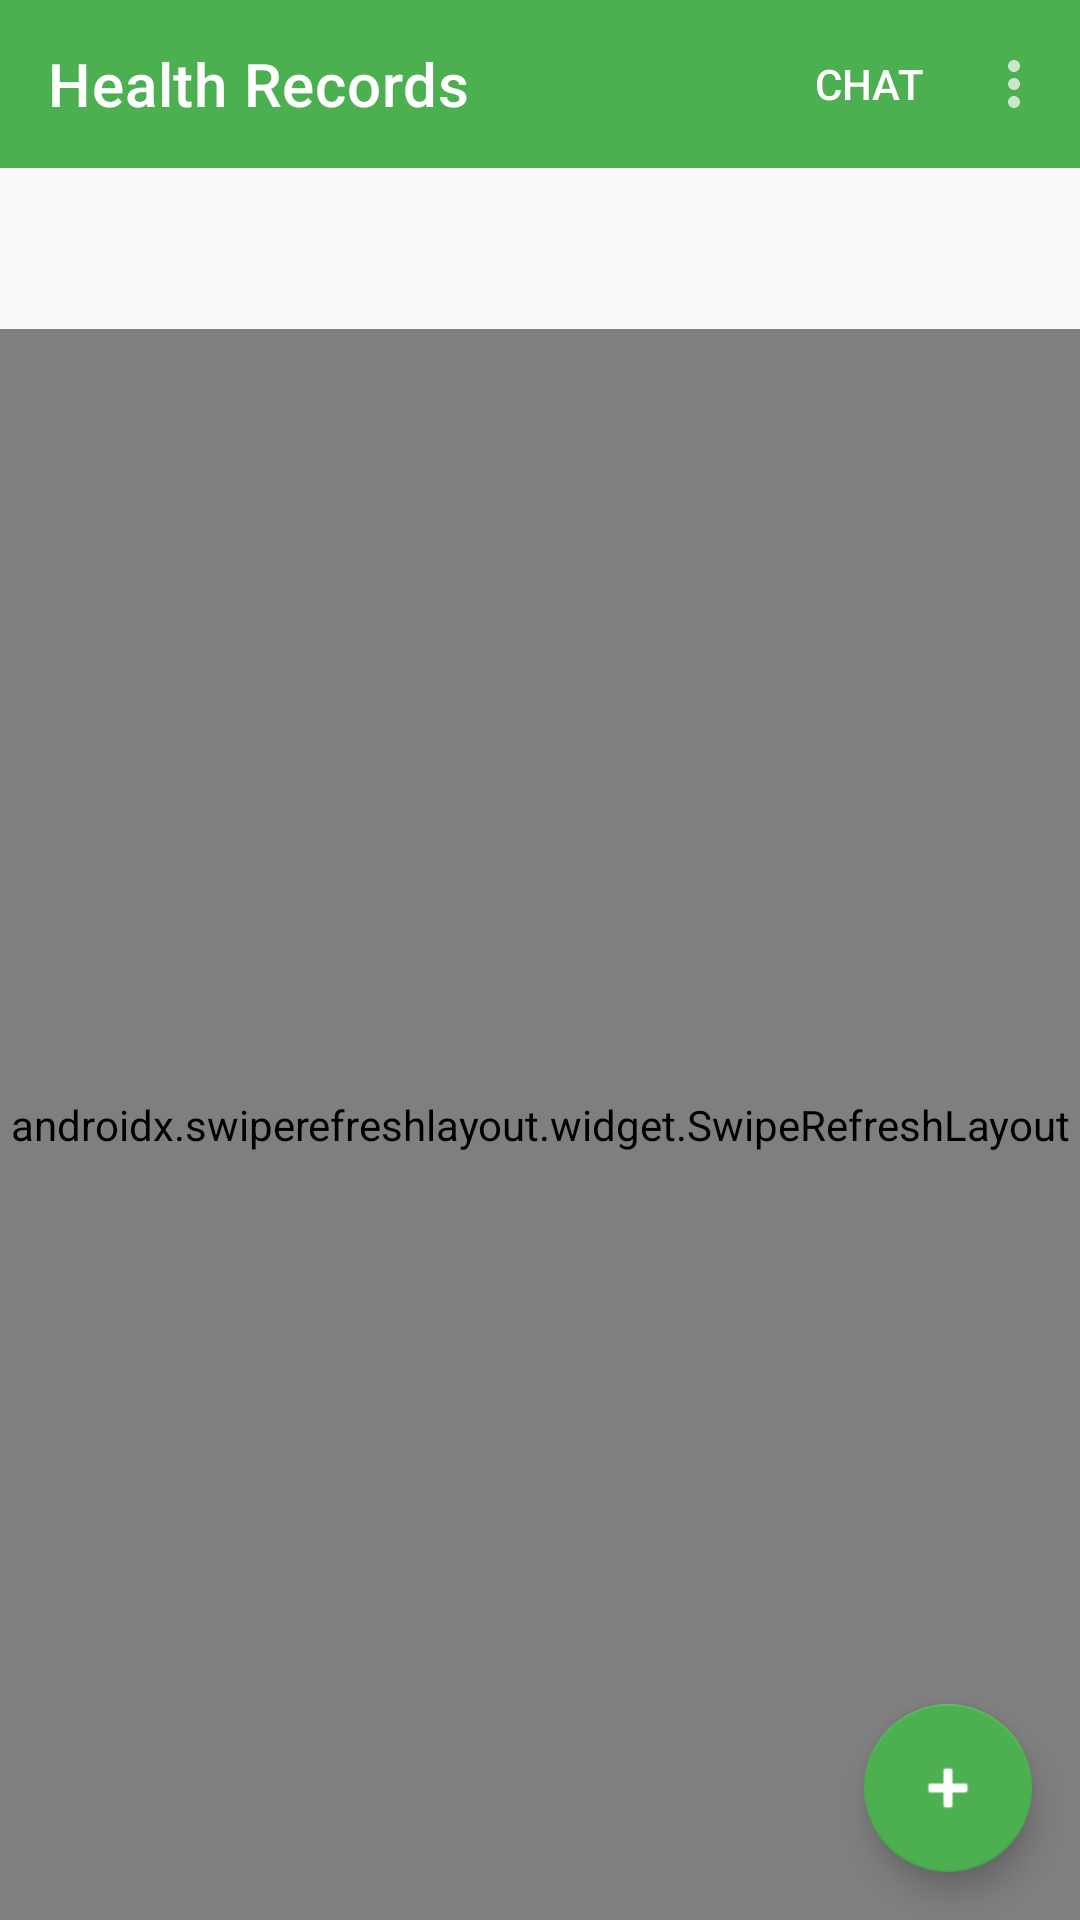

Icons on this 1080x1920 Android screen, each with its box as (x1, y1, x2, y2):
Add Record: (864, 1704, 1032, 1872)
